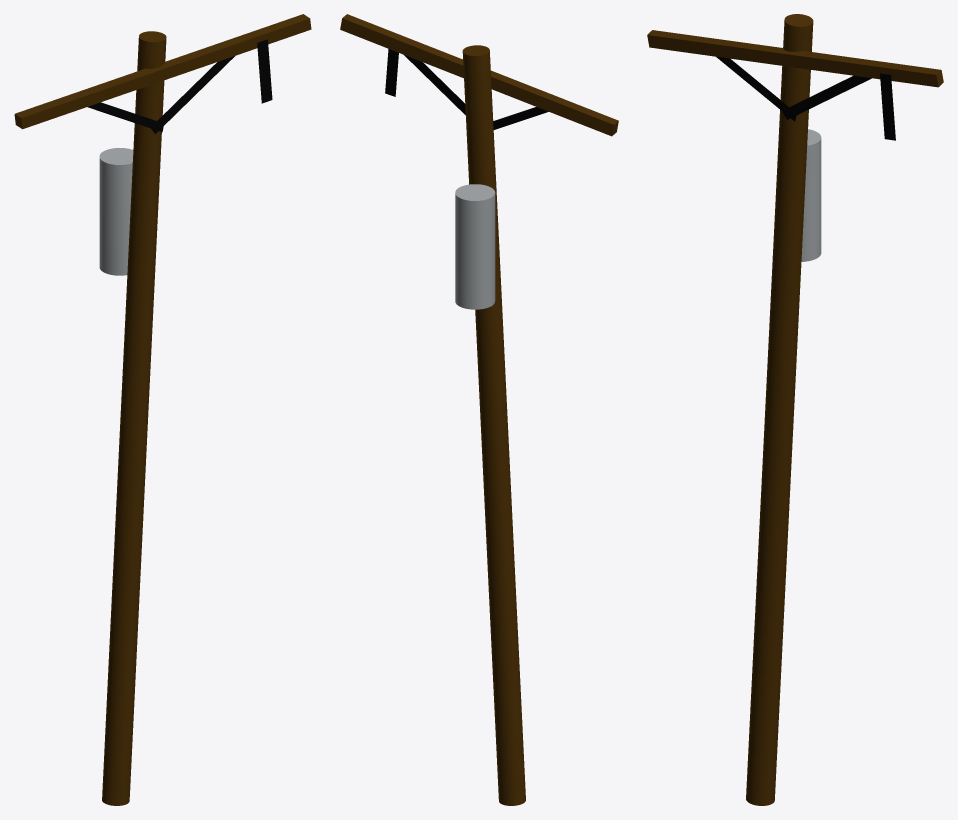
File: power_line_05.glb
3 renders of one model, left to right at view 1: azimuth 30°, elevation 25°; view 2: azimuth 150°, elevation 25°; view 3: azimuth 330°, elevation 25°, orthographic. The views are drawn at different scales.
Visible parts, largest first — view 1: PowerLine05; view 2: PowerLine05; view 3: PowerLine05.
Part boxes in pixels (box(x1,y1,x2,y2)): PowerLine05: box(14, 14, 311, 805); PowerLine05: box(340, 14, 618, 805); PowerLine05: box(647, 14, 943, 805).
Bounding box in the file's own units: 8.1 × 20.5 × 2.
